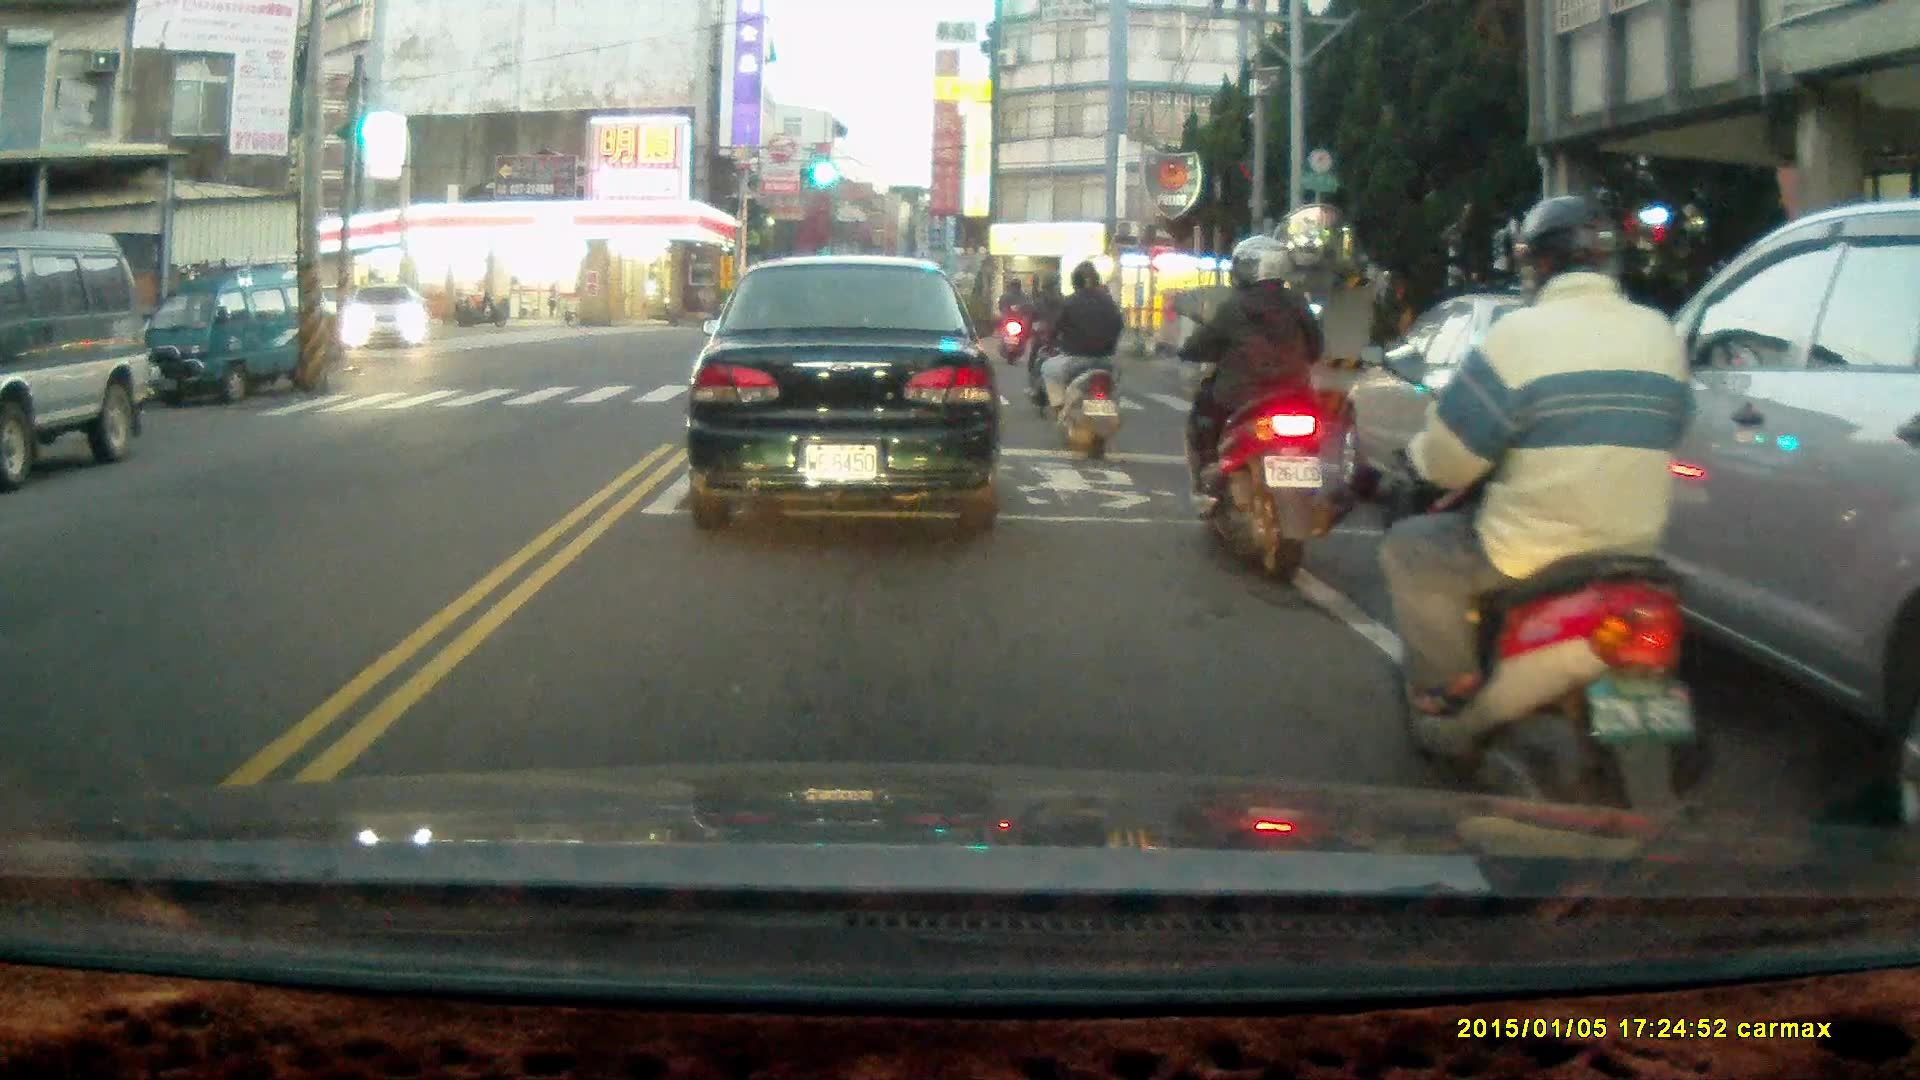rider: (1380, 194, 1726, 876), (1175, 230, 1354, 592), (1033, 256, 1122, 460), (1011, 271, 1079, 418), (993, 277, 1035, 364)
vehicle: (1553, 196, 1920, 850), (1347, 296, 1738, 558), (685, 252, 1003, 535), (1, 234, 143, 477), (146, 263, 310, 406), (342, 286, 430, 355)
